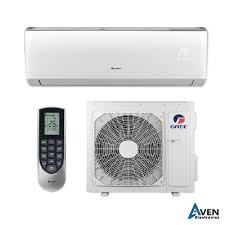ac: (19, 25, 211, 91)
